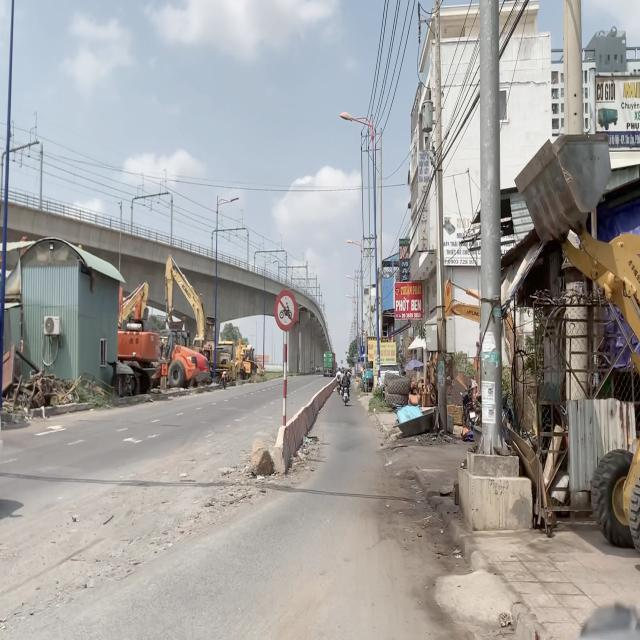Cam con lai: (273, 288, 299, 333)
